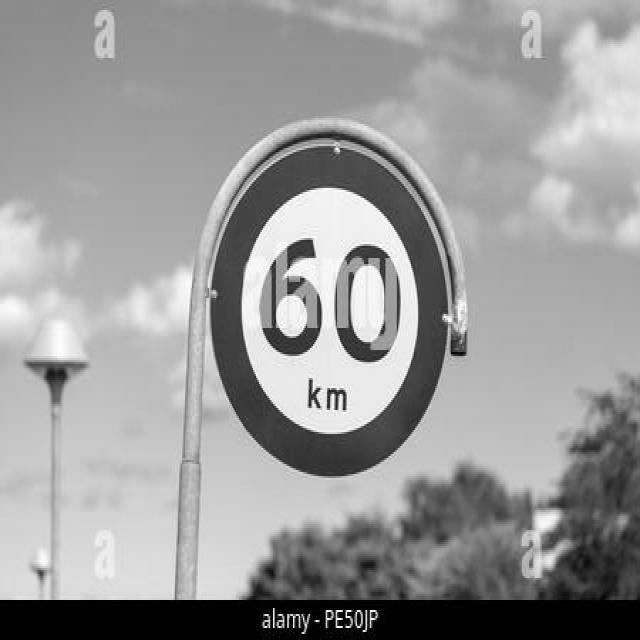speed_60: (207, 147, 451, 479)
